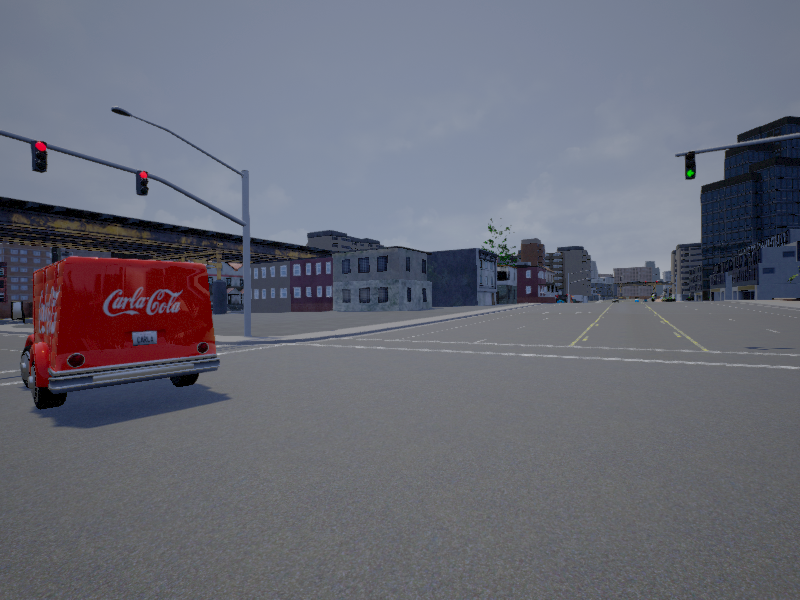Benign: (23, 259, 219, 409)
